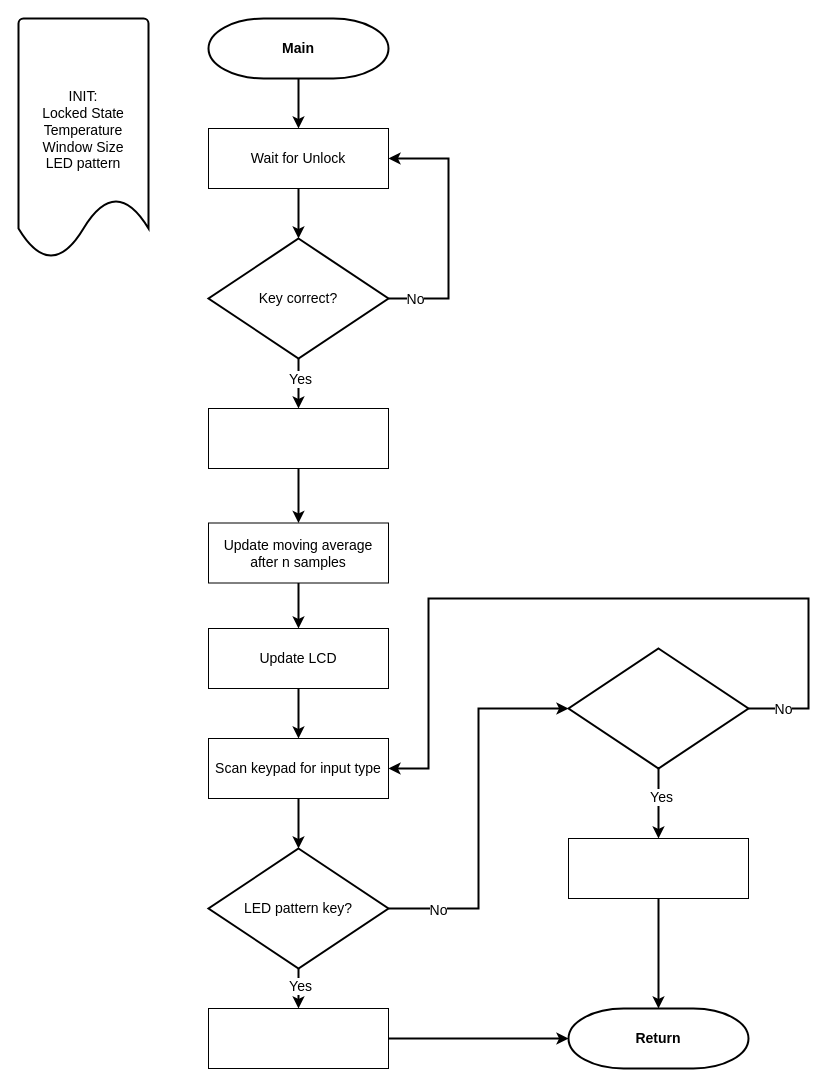
The diagram is 834 pixels wide and 1086 high, and some of its shapes have lost their labels. The box of each missing label's shape, as (x1, y1, x2, y2) in pixels:
Sample Temp. sensor: (208, 408, 388, 468)
Scan keypad and update LED pattern: (208, 1008, 388, 1068)
Scan keypad and update window size: (568, 838, 748, 898)
Window key?: (567, 647, 749, 769)
